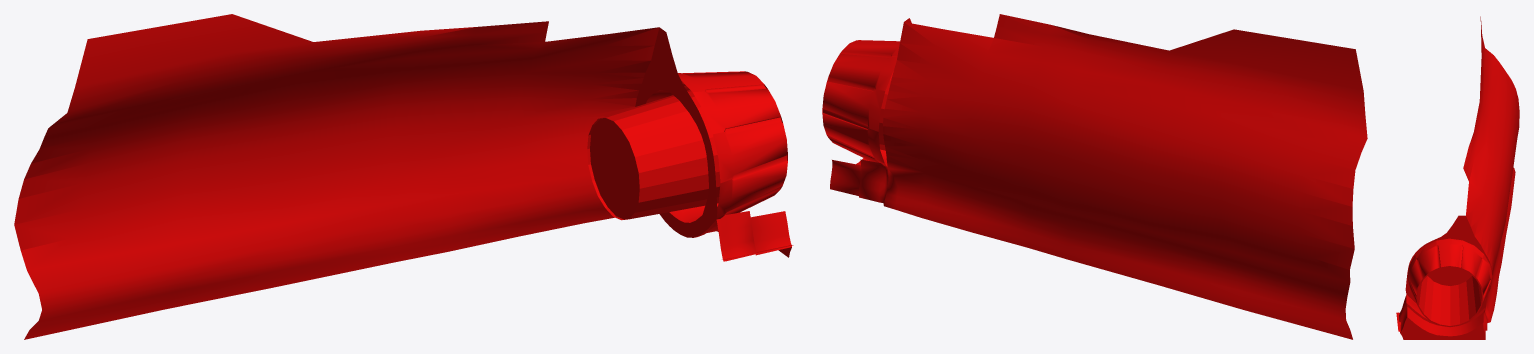
File: rafale_highlight_09.fbx
3 renders of one model, left to right at view 1: azimuth 30°, elevation 25°; view 2: azimuth 150°, elevation 25°; view 3: azimuth 270°, elevation 25°, orthographic. The views are drawn at different scales.
Visible parts, largest first — view 1: rafale_highlight_09; view 2: rafale_highlight_09; view 3: rafale_highlight_09.
Boxes of the visible parts, x1,y1,x2,y2 form: rafale_highlight_09: (14, 14, 793, 339); rafale_highlight_09: (822, 14, 1367, 339); rafale_highlight_09: (1396, 16, 1519, 339).
Bounding box in the file's own units: 177 × 79.69 × 53.63.
